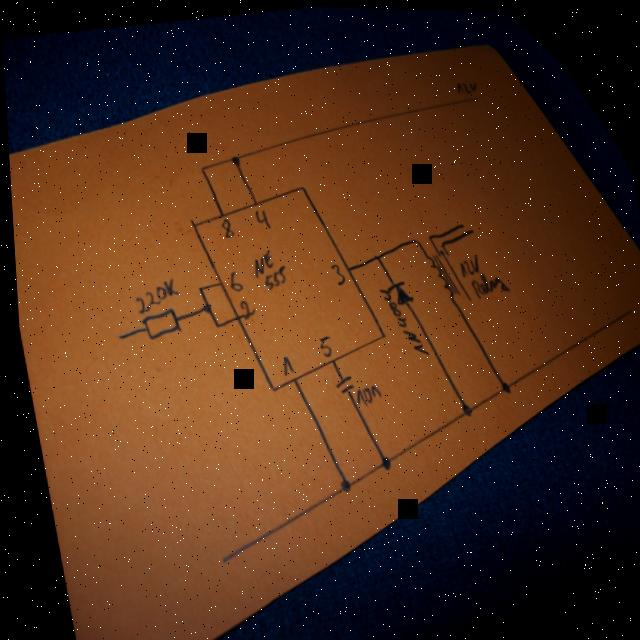capacitor: (327, 371, 350, 392)
diode: (382, 275, 410, 304)
junction: (371, 452, 386, 469), (331, 473, 345, 491), (453, 399, 467, 415), (493, 376, 505, 391), (196, 299, 208, 312), (226, 151, 237, 165), (408, 233, 417, 243), (208, 318, 216, 328), (195, 161, 203, 170), (368, 250, 376, 259), (191, 282, 199, 291), (422, 230, 429, 237), (435, 237, 442, 244)
resistor: (134, 304, 178, 340)
terminal: (209, 550, 221, 562), (109, 330, 118, 341), (470, 90, 479, 99), (464, 223, 471, 232), (461, 292, 469, 299), (454, 218, 461, 225), (622, 302, 628, 310)
text: (373, 280, 424, 357), (127, 274, 177, 313), (245, 245, 285, 289), (464, 266, 506, 297), (347, 380, 376, 404), (452, 250, 476, 275), (233, 295, 252, 319), (249, 204, 268, 228), (324, 259, 342, 284), (311, 331, 329, 355), (452, 75, 476, 92), (214, 214, 231, 236), (222, 267, 238, 289), (273, 351, 288, 374)
